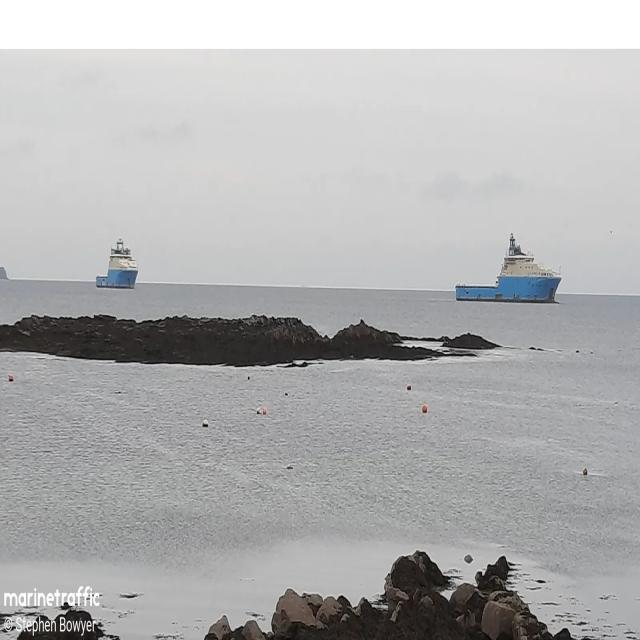Offshore: (455, 233, 561, 302), (96, 239, 138, 287)
